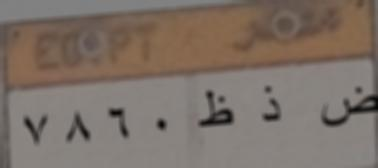0: (151, 106, 174, 143)
6: (103, 104, 132, 142)
7: (18, 107, 50, 152)
8: (60, 107, 92, 149)
Thaa: (195, 89, 236, 136)
daad: (317, 82, 378, 136)
zaal: (255, 84, 286, 129)
